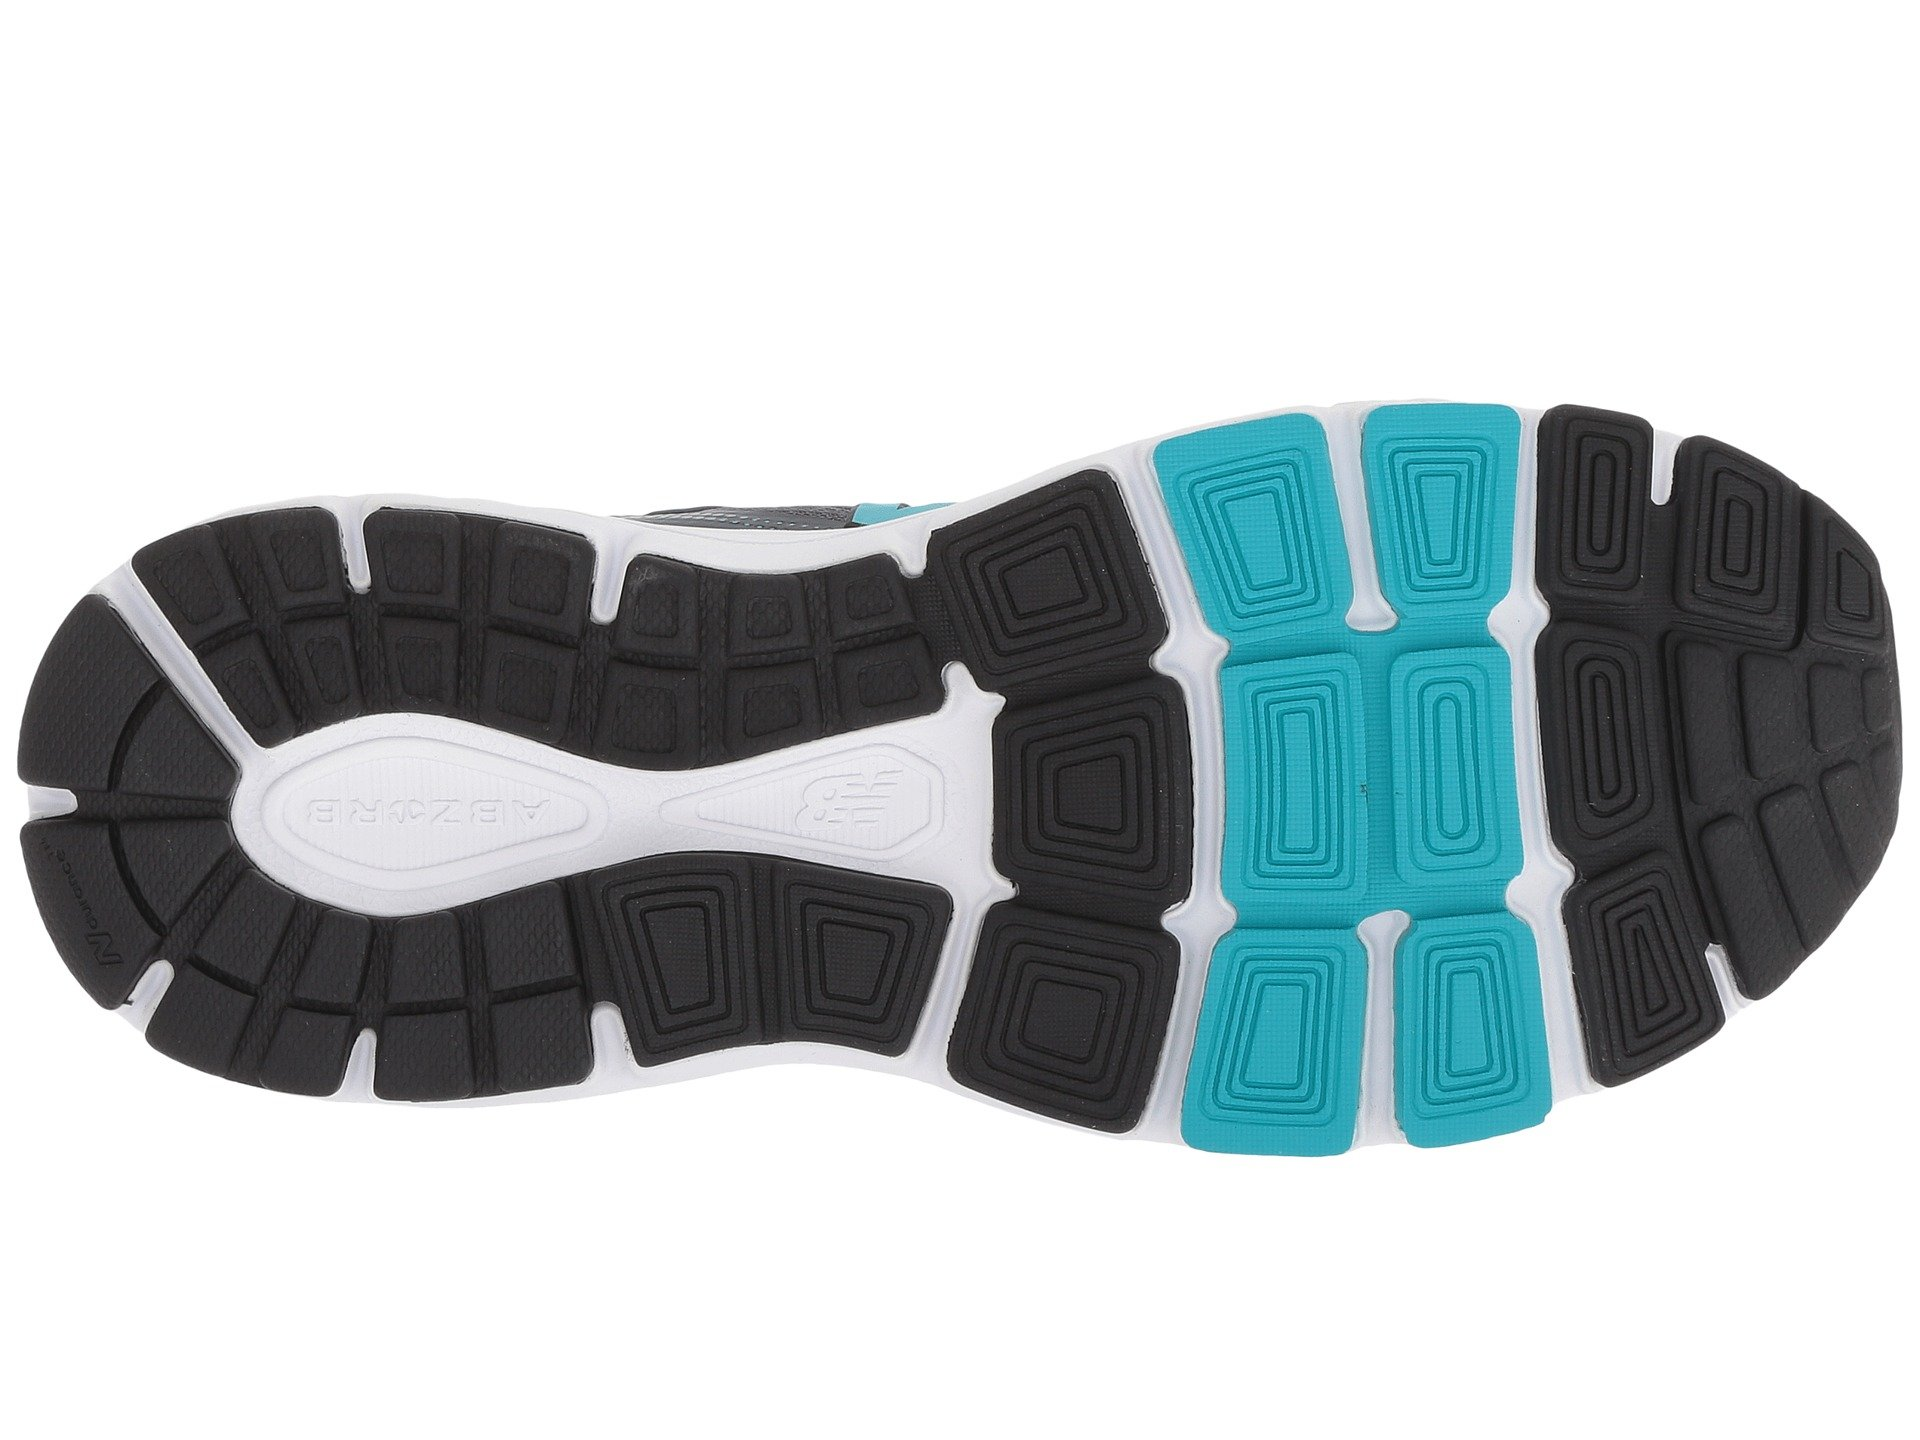quad: (903, 8, 1367, 510), (1147, 236, 1572, 750), (1327, 5, 1658, 492), (339, 104, 600, 365), (343, 479, 593, 715), (698, 136, 943, 365), (955, 281, 1181, 529), (568, 148, 819, 366), (555, 451, 762, 693), (1193, 248, 1370, 525), (1147, 542, 1361, 753), (1362, 514, 1553, 750), (1332, 14, 1516, 244), (1371, 236, 1527, 507), (747, 457, 949, 664), (1519, 231, 1655, 484), (1504, 9, 1665, 222), (1655, 33, 1799, 250), (1655, 247, 1795, 427), (1791, 262, 1879, 375)
text: (284, 401, 550, 436), (776, 378, 898, 448)
